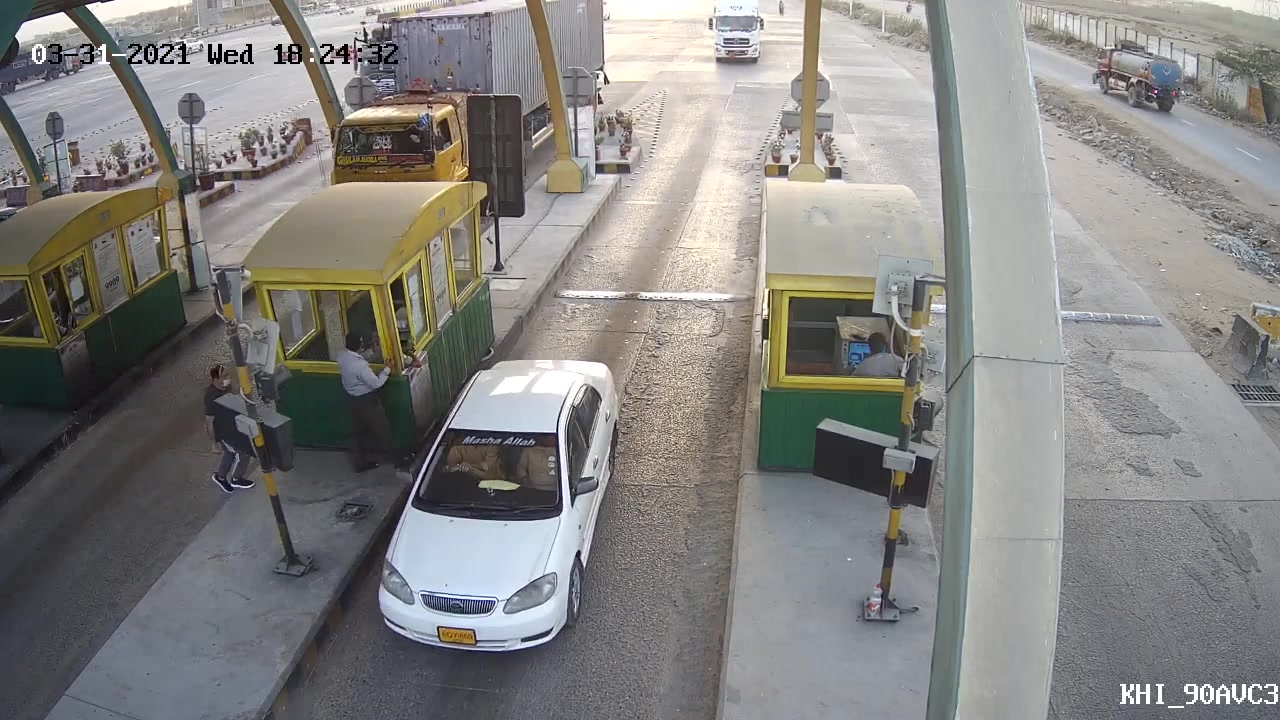F1: (369, 353, 627, 658)
